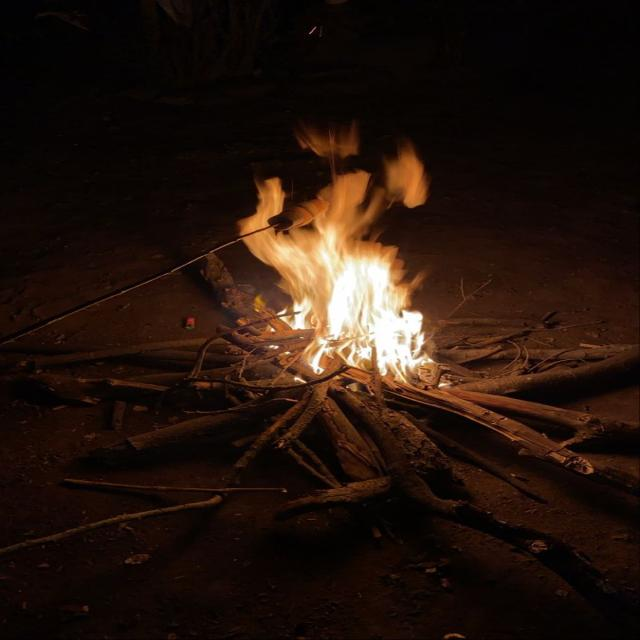fire: (239, 128, 434, 379)
